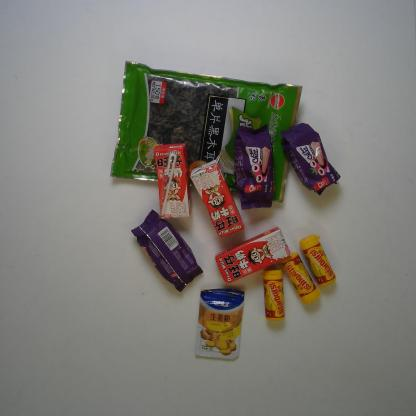Candy: (279, 251, 322, 307), (298, 232, 336, 288), (261, 264, 286, 322)
Dessert: (127, 208, 204, 292), (278, 120, 342, 197), (231, 120, 276, 212)
Dried Food: (108, 59, 305, 205)
Milk: (214, 225, 294, 285), (189, 158, 245, 239), (153, 140, 191, 222)
Seasoner: (191, 285, 246, 364)
